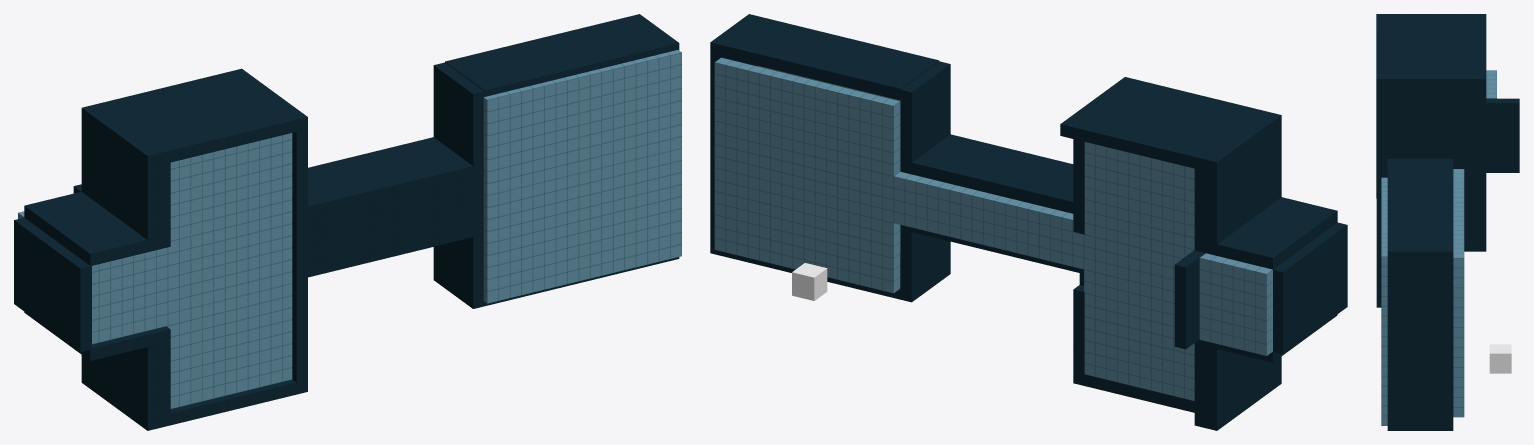
File: escape.gltf
3 renders of one model, left to right at view 1: azimuth 30°, elevation 25°; view 2: azimuth 150°, elevation 25°; view 3: azimuth 270°, elevation 25°, orthographic. The views are drawn at different scales.
Visible parts, largest first — view 1: ESCAPE; view 2: ESCAPE; view 3: ESCAPE.
Part boxes in pixels (x1,y1,x2,y2): ESCAPE: (14,14,681,430); ESCAPE: (710,14,1347,430); ESCAPE: (1376,14,1519,430).
Size of the model in its own units: 26.45 by 11.46 by 6.5.
3 materials, 2 textured.
